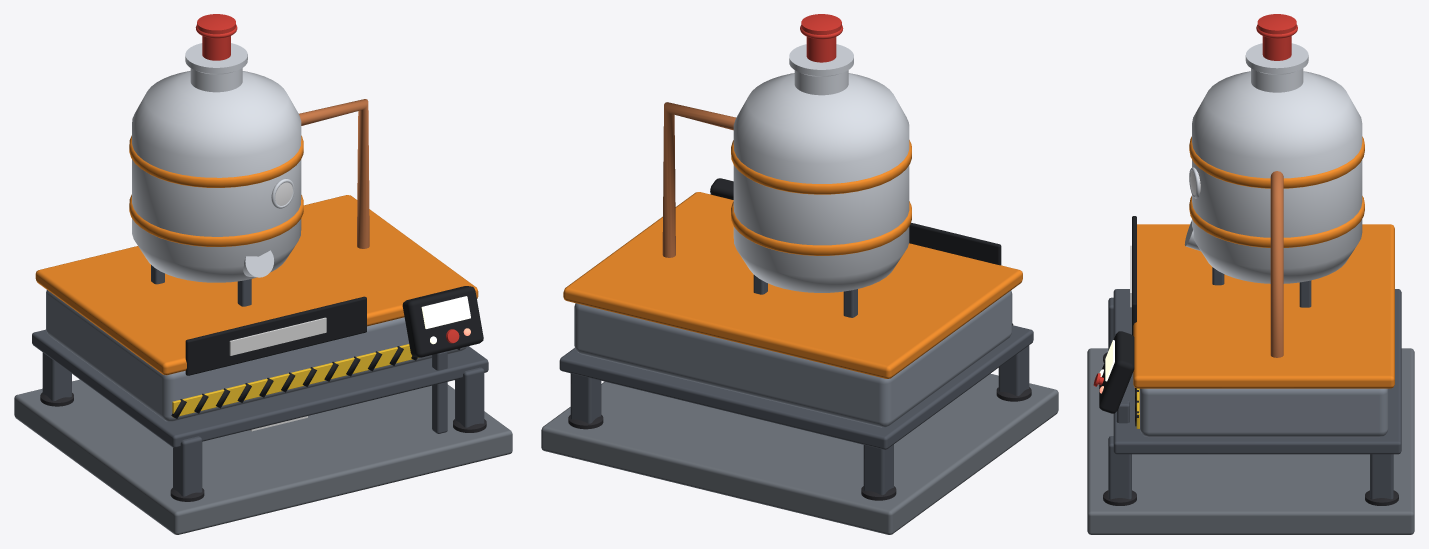
File: Peeler.fbx
3 views of the same model, side by side, from view 1: azimuth 30°, elevation 25°; view 2: azimuth 150°, elevation 25°; view 3: azimuth 270°, elevation 25° (orthographic). The views are drawn at different scales.
Parts seen in each view (by area): view 1: Body__Plate, Body__Orange, Body__Chrome, Body__MetalDark, Body__Steel, Body__Black, Body__Yellow, Body__Copper, Body__Red, Body__NeonOrange!1, Body__NeonGreen, Body__Rubber; view 2: Body__Orange, Body__Plate, Body__Chrome, Body__Steel, Body__MetalDark, Body__Copper, Body__Black, Body__Red, Body__Rubber; view 3: Body__Orange, Body__Chrome, Body__Plate, Body__Steel, Body__MetalDark, Body__Copper, Body__Black, Body__Red, Body__Rubber.
Boxes of the visible parts, x1=… form: Body__Plate: x1=14, y1=379, x2=512, y2=534; Body__Orange: x1=35, y1=135, x2=478, y2=375; Body__Chrome: x1=132, y1=43, x2=301, y2=282; Body__MetalDark: x1=32, y1=265, x2=488, y2=496; Body__Steel: x1=46, y1=290, x2=466, y2=421; Body__Black: x1=171, y1=286, x2=483, y2=418; Body__Yellow: x1=172, y1=344, x2=418, y2=417; Body__Copper: x1=299, y1=99, x2=369, y2=248; Body__Red: x1=195, y1=14, x2=459, y2=343; Body__NeonOrange!1: x1=229, y1=317, x2=326, y2=355; Body__NeonGreen: x1=421, y1=296, x2=470, y2=344; Body__Rubber: x1=40, y1=392, x2=486, y2=501; Body__Orange: x1=563, y1=140, x2=1022, y2=378; Body__Plate: x1=541, y1=373, x2=1058, y2=534; Body__Chrome: x1=733, y1=44, x2=909, y2=292; Body__Steel: x1=574, y1=290, x2=1012, y2=427; Body__MetalDark: x1=559, y1=275, x2=1033, y2=495; Body__Copper: x1=662, y1=102, x2=735, y2=257; Body__Black: x1=710, y1=178, x2=1013, y2=325; Body__Red: x1=800, y1=14, x2=843, y2=62; Body__Rubber: x1=568, y1=387, x2=1031, y2=500; Body__Orange: x1=1133, y1=136, x2=1394, y2=388; Body__Chrome: x1=1184, y1=43, x2=1362, y2=283; Body__Plate: x1=1087, y1=348, x2=1414, y2=534; Body__Steel: x1=1139, y1=388, x2=1388, y2=437; Body__MetalDark: x1=1108, y1=267, x2=1401, y2=499; Body__Copper: x1=1270, y1=171, x2=1283, y2=357; Body__Black: x1=1099, y1=216, x2=1138, y2=426; Body__Red: x1=1093, y1=14, x2=1297, y2=386; Body__Rubber: x1=1103, y1=352, x2=1398, y2=505.
Size of the model in its own units: 6 by 7.54 by 5.
